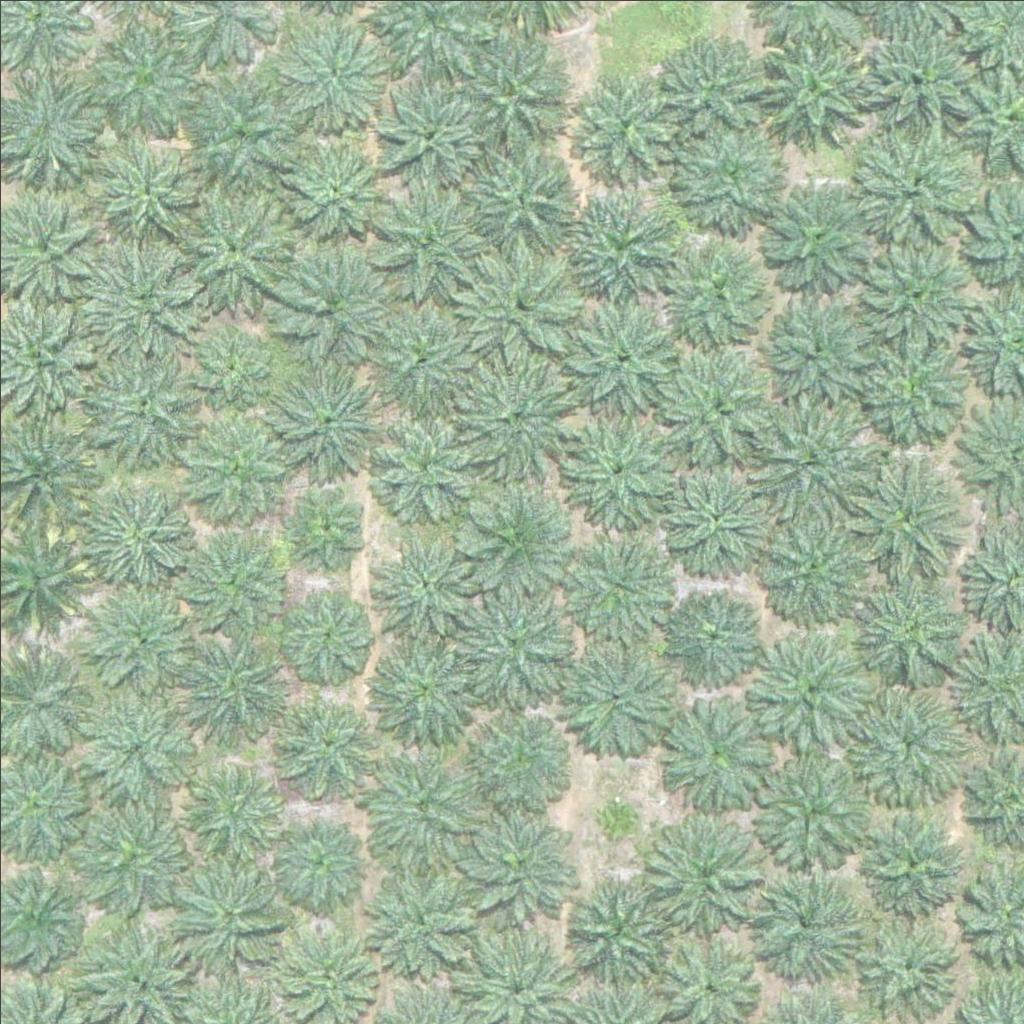Kelapa_Sawit: (449, 575, 574, 701), (750, 501, 875, 627), (843, 682, 968, 808), (844, 560, 969, 686), (844, 448, 969, 574), (847, 229, 972, 355), (848, 121, 973, 247), (666, 339, 791, 465), (753, 28, 878, 154), (456, 354, 581, 480), (460, 239, 585, 365), (164, 183, 289, 309), (78, 336, 203, 462), (752, 630, 877, 755), (750, 747, 875, 872), (847, 324, 972, 449), (661, 229, 786, 354), (672, 111, 797, 236), (85, 473, 198, 587), (174, 630, 287, 744), (367, 300, 480, 414), (370, 407, 483, 521), (172, 859, 285, 972), (459, 480, 572, 593), (565, 526, 678, 639), (562, 644, 675, 757), (560, 866, 673, 979), (764, 178, 877, 291), (763, 292, 876, 405), (750, 407, 863, 520), (658, 33, 771, 146), (371, 76, 484, 189), (374, 180, 487, 293), (84, 244, 197, 357), (368, 868, 480, 982), (367, 750, 479, 864), (461, 804, 573, 918), (276, 359, 388, 473), (274, 245, 386, 359), (186, 66, 298, 180), (91, 15, 203, 129), (81, 690, 193, 803), (76, 792, 188, 905), (370, 636, 482, 749), (659, 703, 771, 816), (649, 457, 761, 570), (753, 864, 865, 977), (851, 909, 963, 1022), (867, 18, 979, 131), (568, 70, 680, 183), (561, 195, 673, 308), (569, 298, 681, 411), (564, 408, 676, 521), (464, 138, 576, 251), (457, 40, 569, 153), (280, 920, 380, 1021), (373, 534, 473, 635), (468, 710, 568, 811), (654, 820, 754, 921), (661, 583, 761, 684), (863, 811, 963, 912), (280, 23, 380, 124), (186, 410, 286, 511), (89, 592, 189, 692), (183, 754, 283, 854), (181, 532, 281, 632), (287, 141, 387, 241), (94, 145, 194, 245), (282, 588, 370, 676), (280, 693, 368, 781), (273, 813, 360, 901), (292, 485, 367, 561), (190, 326, 265, 402), (592, 790, 642, 840)
